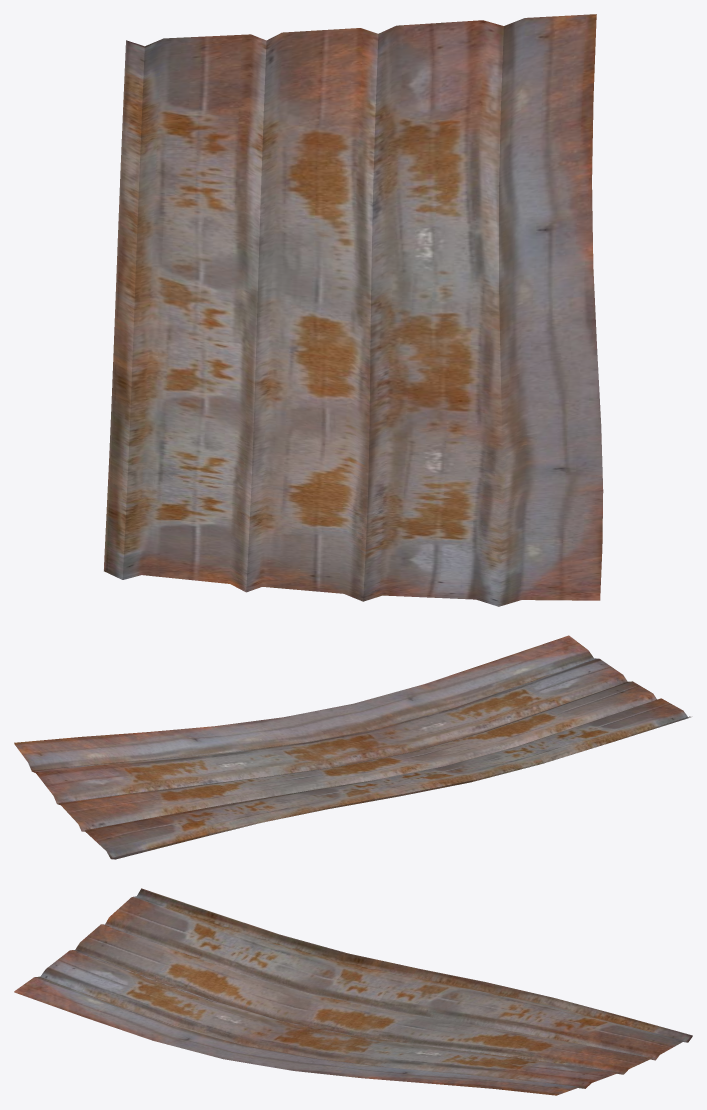
Rendered from junk_scrap_05.glb.
3 views of the same model, one above another, from view 1: azimuth 30°, elevation 25°; view 2: azimuth 150°, elevation 25°; view 3: azimuth 270°, elevation 25° (orthographic). The views are drawn at different scales.
Visible parts, largest first — view 1: junk_scrap_05; view 2: junk_scrap_05; view 3: junk_scrap_05.
Boxes of the visible parts, box(x1,y1,x2,y2) form: junk_scrap_05: box(104, 14, 603, 606); junk_scrap_05: box(14, 635, 690, 859); junk_scrap_05: box(14, 888, 692, 1095).
Size of what is drawn, in the model's own units: 0.4632 by 0.0489 by 0.6.
1 material, 1 textured.
